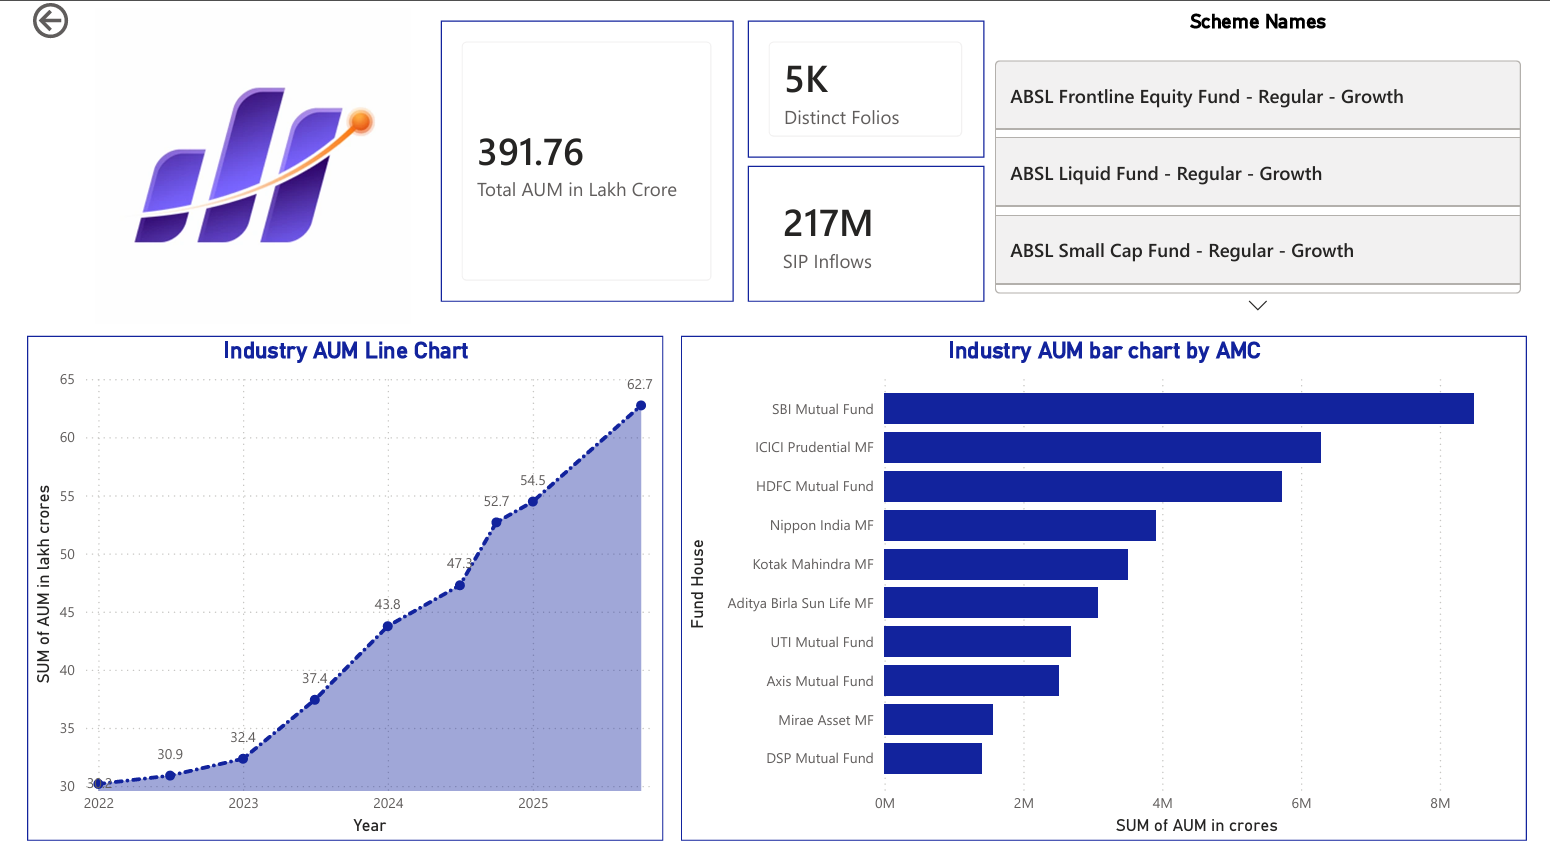

The page's visual inventory and layout, read from the dashboard file:
{"tool":"powerbi","page":{"name":"Industry Overview","canvas":[1280,720],"ordinal":0},"visuals":[{"type":"cardVisual","fields":{"Data":["Sum(fact_aum_pbi.aum_lakh_crore)"]},"box":[353.4,19.6,249.5,240.9],"z":0},{"type":"cardVisual","fields":{"Data":["Sum(fact_transactions_pbi.amount_inr)"]},"box":[615.1,144.3,201.8,116.2],"z":1000},{"type":"cardVisual","fields":{"Data":["fact_transactions_pbi.Distinct_Folios"]},"box":[615.1,19.6,201.8,117.4],"z":2000},{"type":"cardVisual","title":"Scheme Names","fields":{"Rows":["dim_fund_pbi.scheme_name"]},"box":[820.8,9.9,459.5,269.5],"z":3000},{"type":"lineChart","title":"Industry AUM Line Chart","fields":{"Y":["Sum(fact_aum_pbi.aum_lakh_crore)"],"Category":["dim_date_pbi.date_id.Variation.Date Hierarchy.Year","dim_date_pbi.date_id.Variation.Date Hierarchy.Quarter","dim_date_pbi.date_id.Variation.Date Hierarchy.Month","dim_date_pbi.date_id.Variation.Date Hierarchy.Day"]},"box":[0,289.3,542.6,430.9],"z":4000},{"type":"clusteredBarChart","title":"Industry AUM bar chart by AMC","fields":{"Category":["dim_fund_pbi.fund_house"],"Y":["Sum(fact_aum_pbi.aum_crore)"]},"box":[557.5,289.3,722.7,430.9],"z":5000},{"type":"actionButton","box":[0,0,100,40],"z":6000},{"type":"image","box":[50.1,9.8,283.7,269],"z":7000}]}

Visuals, with their boxes in screenshot pixels (x1, y1, x2, y2), scaled from the page's 1280x720 canvas onto the 1550x863 screenshot:
cardVisual - Sum(fact_aum_pbi.aum_lakh_crore): 428, 23, 730, 312
cardVisual - Sum(fact_transactions_pbi.amount_inr): 745, 173, 989, 312
cardVisual - fact_transactions_pbi.Distinct_Folios: 745, 23, 989, 164
"Scheme Names" cardVisual: 994, 12, 1549, 335
"Industry AUM Line Chart" lineChart: 0, 347, 657, 862
"Industry AUM bar chart by AMC" clusteredBarChart: 675, 347, 1549, 862
actionButton: 0, 0, 121, 48
image: 61, 12, 404, 334
